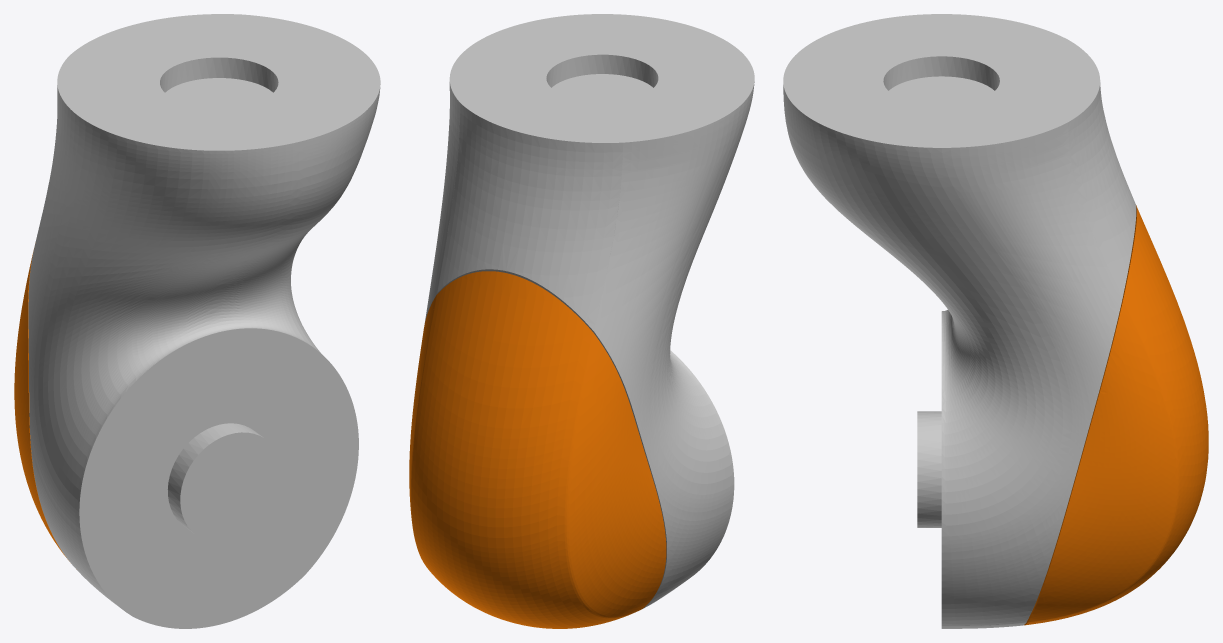
3 renders of one model, left to right at view 1: azimuth 30°, elevation 25°; view 2: azimuth 150°, elevation 25°; view 3: azimuth 270°, elevation 25°, orthographic. The views are drawn at different scales.
Visible parts, largest first — view 1: node1, node0; view 2: node1, node0; view 3: node1, node0.
Part boxes in pixels (left/top/right/bottom): node1: left=28, top=14, right=380, bottom=628; node0: left=14, top=252, right=67, bottom=559; node1: left=425, top=14, right=754, bottom=608; node0: left=409, top=271, right=666, bottom=628; node1: left=783, top=14, right=1136, bottom=628; node0: left=1024, top=205, right=1208, bottom=625.
Size of the model in its own units: 0.136 by 0.1826 by 0.252.
